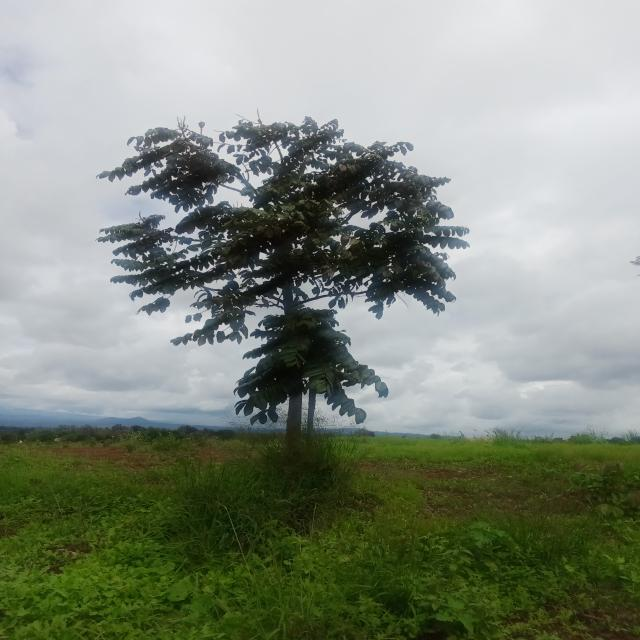Polyscias Kikuyensis: (94, 108, 484, 489)
